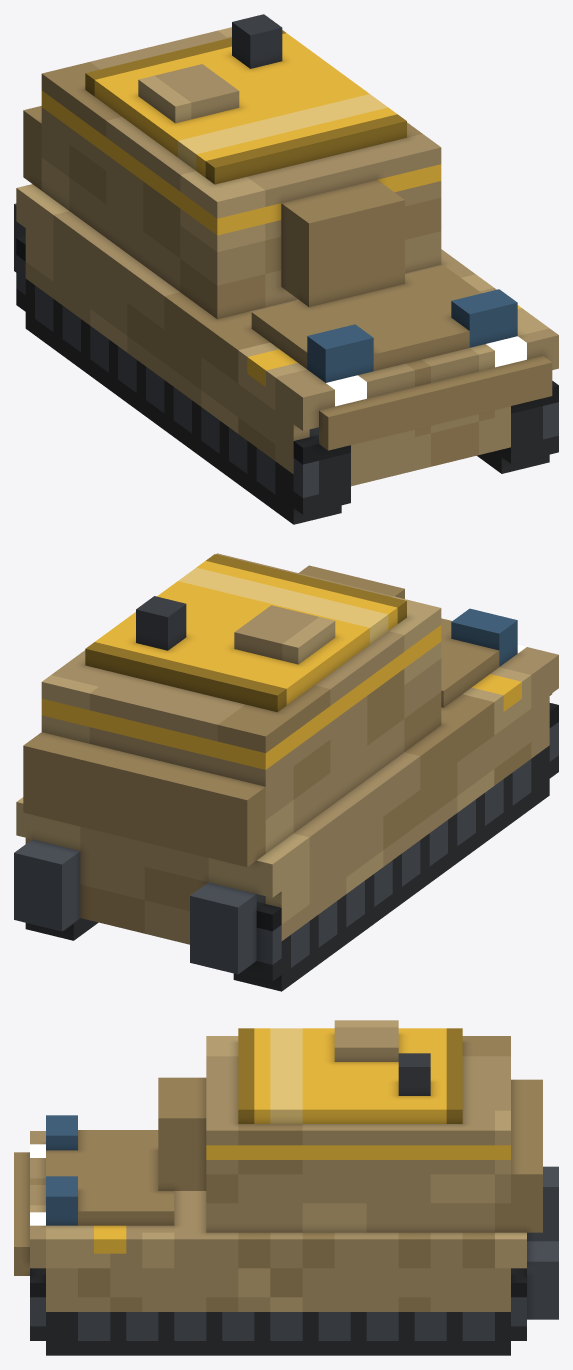
Rendered from cm_artillery_h_2.glb.
3 views of the same model, one above another, from view 1: azimuth 30°, elevation 25°; view 2: azimuth 150°, elevation 25°; view 3: azimuth 270°, elevation 25° (orthographic). The views are drawn at different scales.
Parts seen in each view (by area): view 1: cm_artillery_h_2_body; view 2: cm_artillery_h_2_body; view 3: cm_artillery_h_2_body.
Boxes of the visible parts, x1=… form: cm_artillery_h_2_body: x1=14, y1=14, x2=558, y2=524; cm_artillery_h_2_body: x1=14, y1=553, x2=558, y2=991; cm_artillery_h_2_body: x1=14, y1=1020, x2=558, y2=1355.
Bounding box in the file's own units: 1 × 1.12 × 2.12.
Materials: 1 (1 with a texture image).
